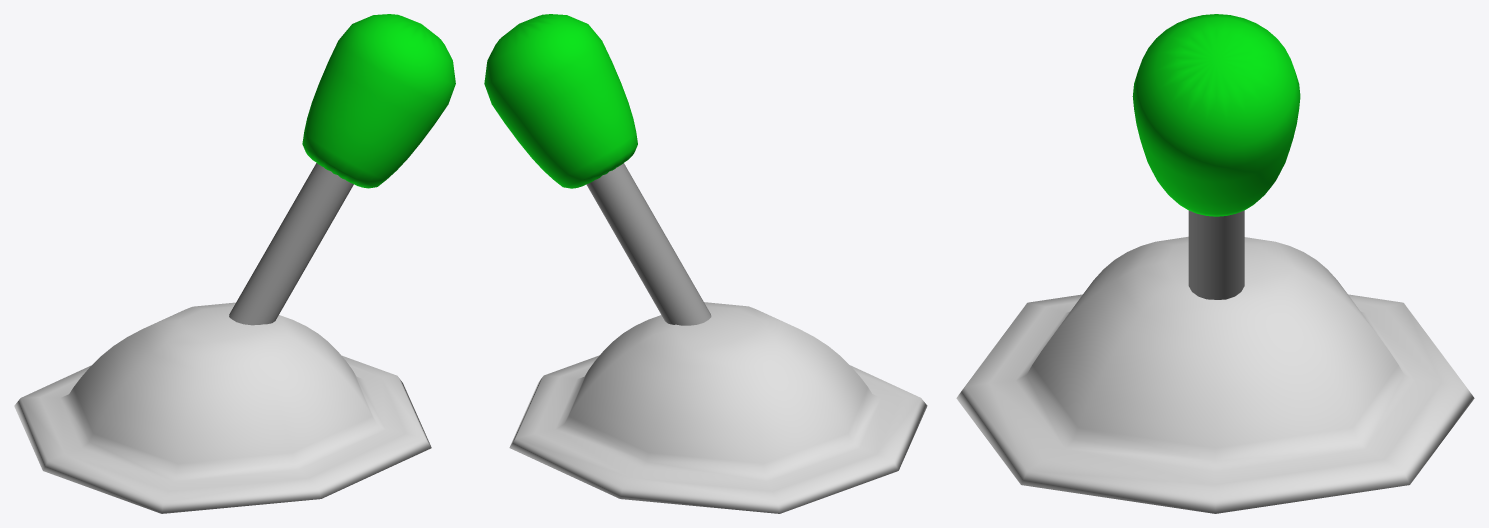
File: clock_Lever.FBX
The picture shows the model from 3 angles, left to right: view 1: azimuth 30°, elevation 25°; view 2: azimuth 150°, elevation 25°; view 3: azimuth 270°, elevation 25°; orthographic projection. The views are drawn at different scales.
Parts seen in each view (by area): view 1: Box006, Cylinder004; view 2: Box006, Cylinder004; view 3: Box006, Cylinder004.
Part boxes in pixels (x1,y1,x2,y2): Box006: (14, 302, 431, 513); Cylinder004: (229, 14, 455, 325); Box006: (509, 302, 927, 513); Cylinder004: (484, 14, 711, 325); Box006: (956, 236, 1474, 513); Cylinder004: (1132, 14, 1300, 299).
Size of the model in its own units: 52.01 by 46.42 by 43.87.
